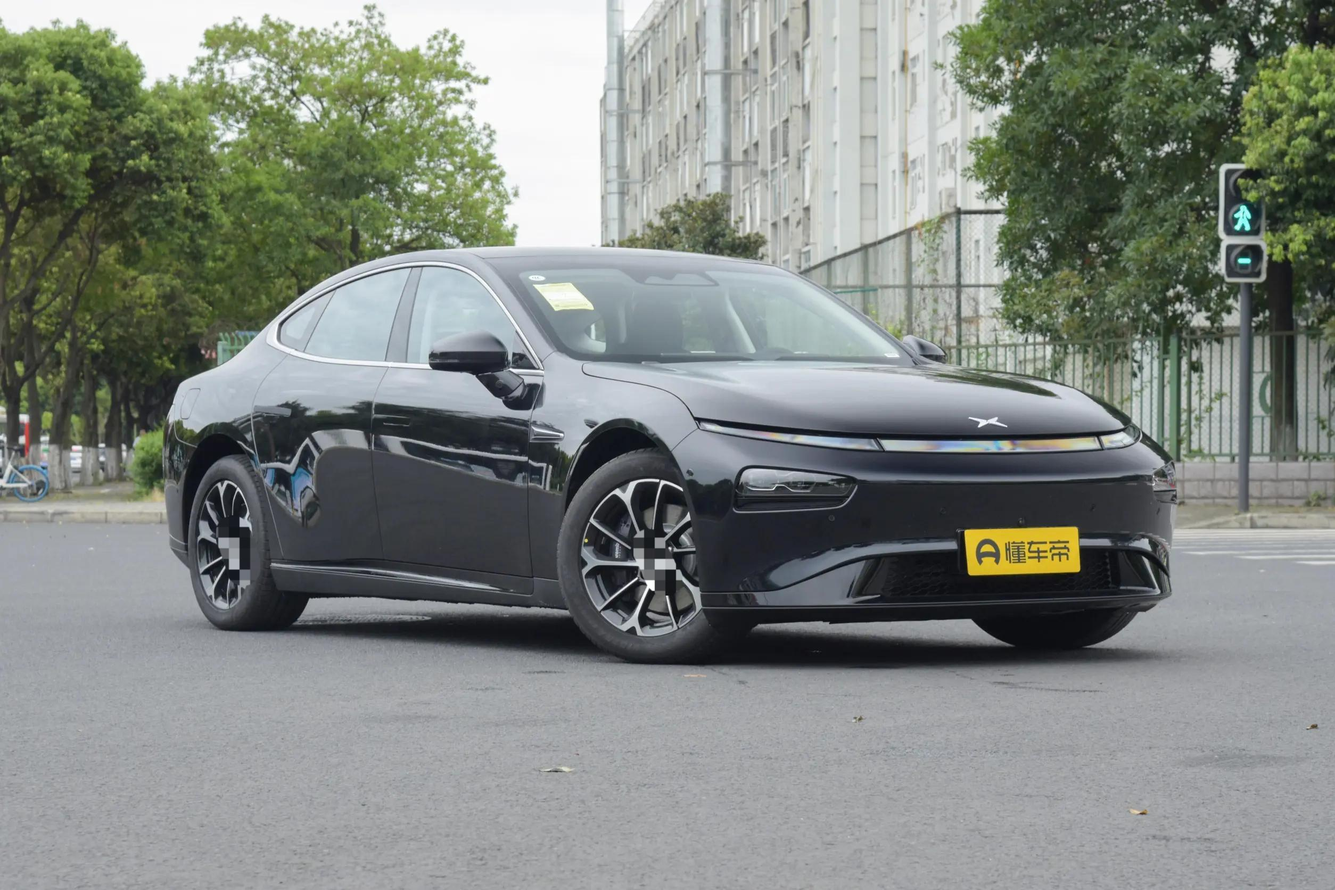XPeng Motors: (968, 417, 1007, 427)
